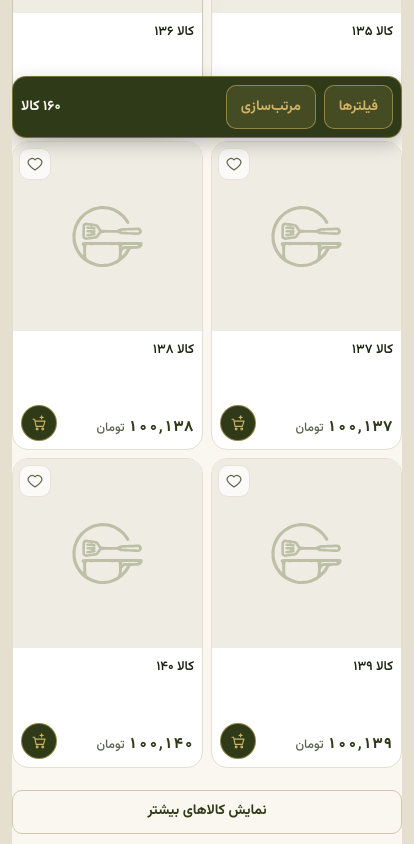
it: phone «نمایش کالاهای بیشتر» › hides the button when the API reports no next page
(page scrolled)
Click the button with class "shop__load-more": (207, 812) [12,790,402,834]
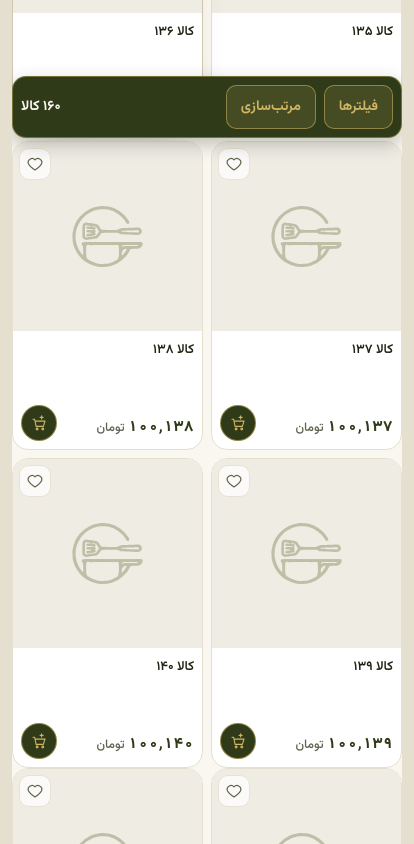
Result: the button with class "shop__load-more" is gone
